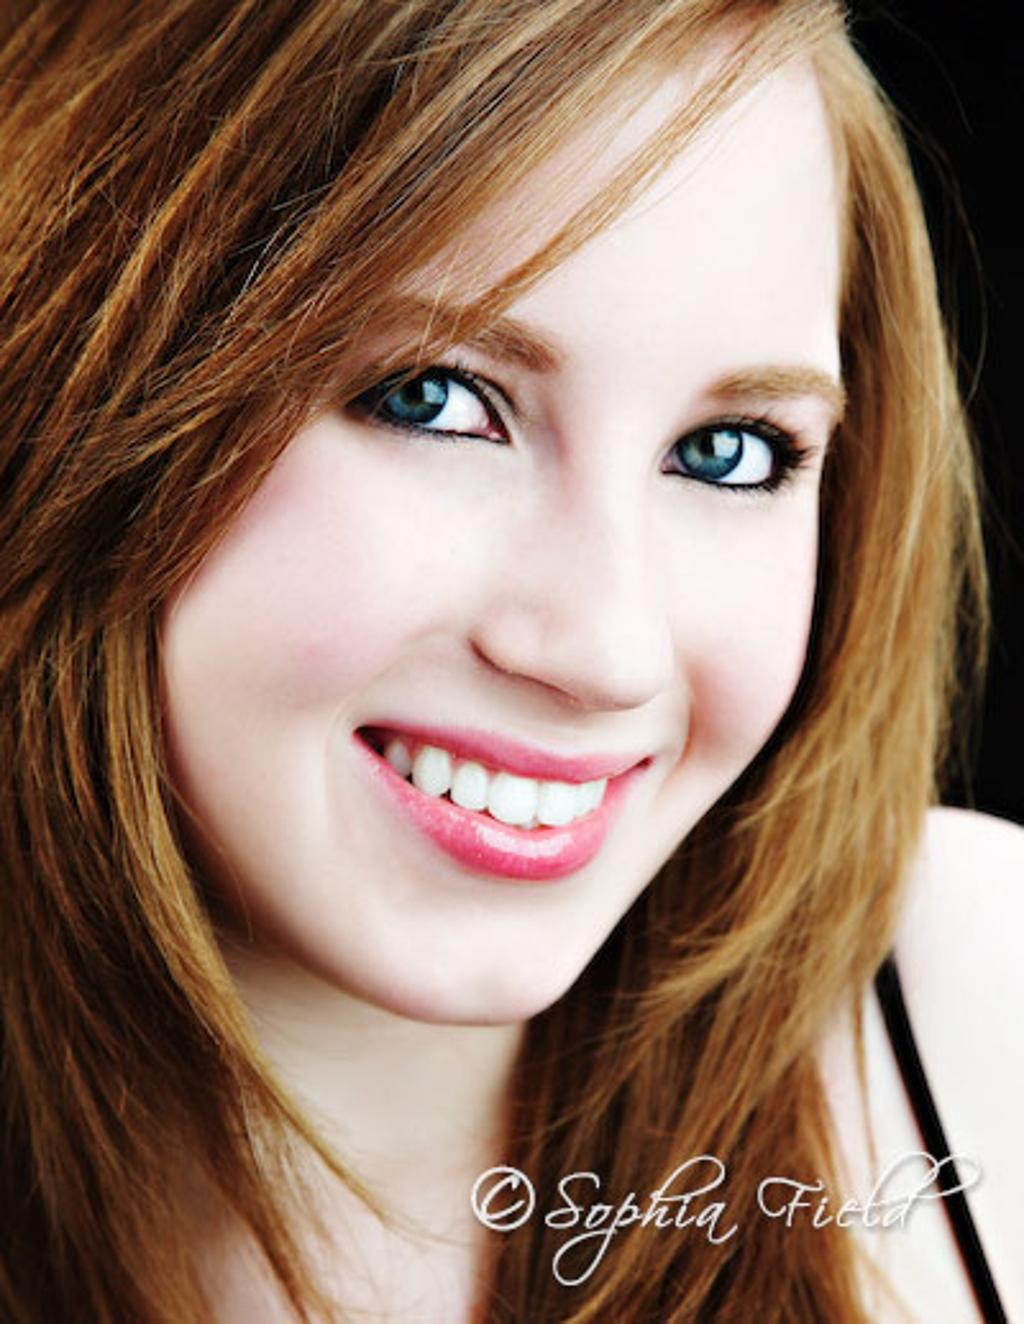face: (163, 85, 828, 1024)
